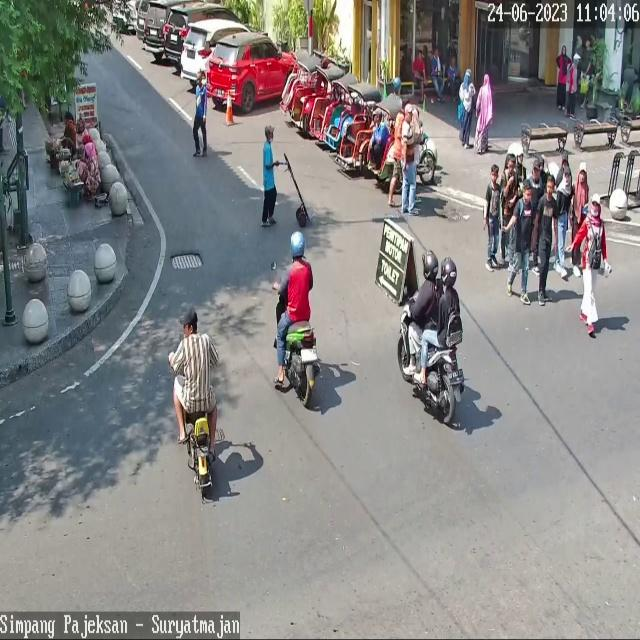bus: (398, 290, 466, 423), (284, 317, 322, 408)
motorcycle: (206, 33, 300, 113), (163, 4, 246, 64), (181, 21, 252, 87), (143, 0, 169, 53)
